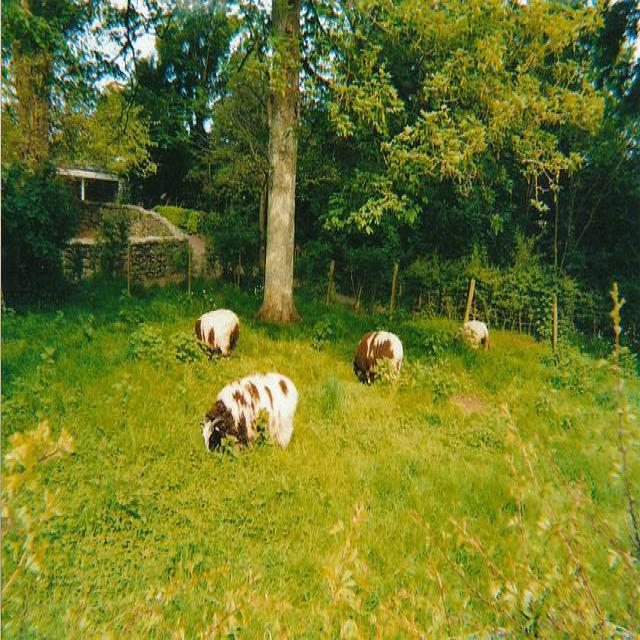Sheep: (199, 372, 298, 453), (354, 330, 403, 383)
